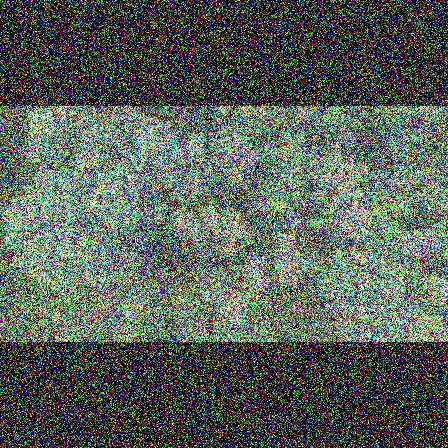Dead: (390, 228, 442, 263), (389, 154, 424, 191), (242, 251, 273, 291), (273, 208, 305, 233)
